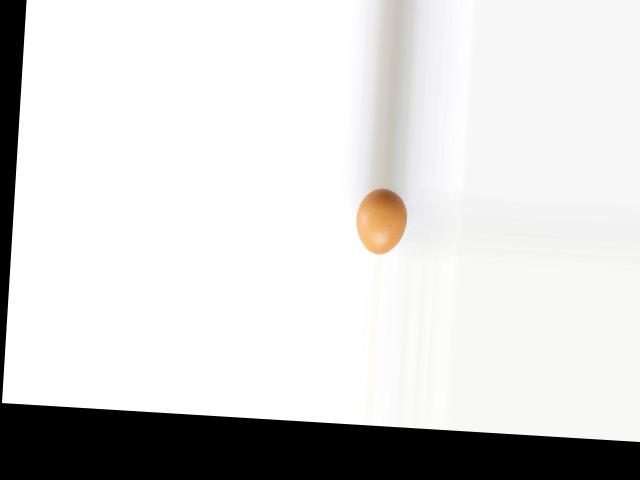egg: (355, 187, 409, 255)
